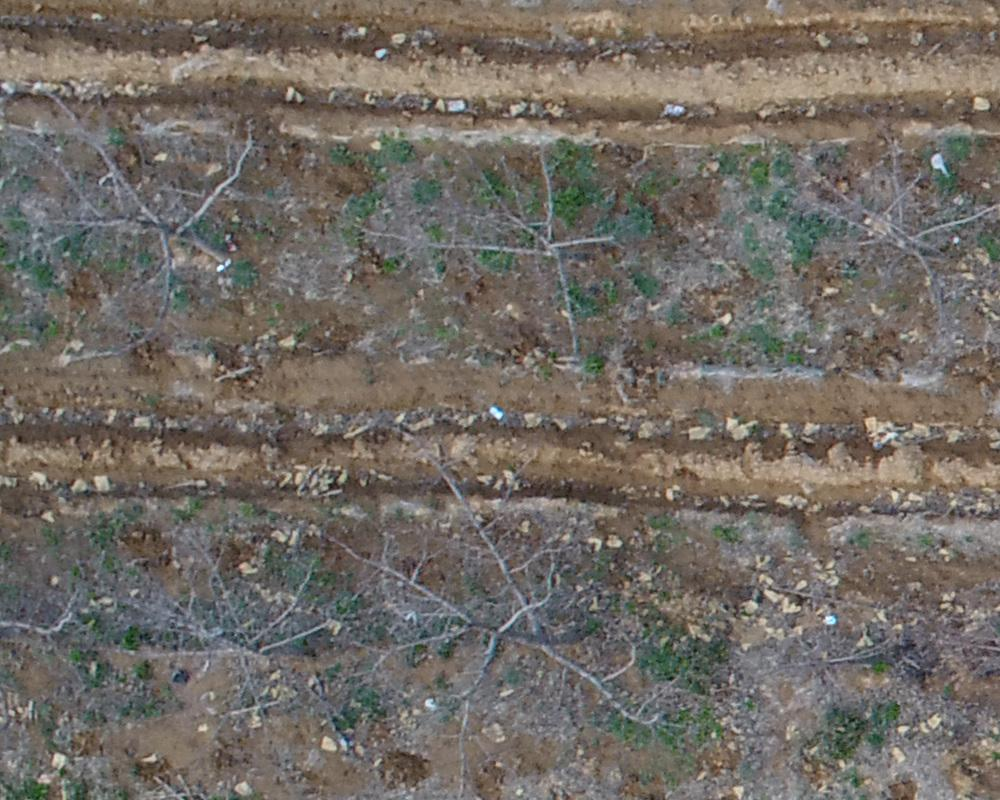apple: (337, 444, 670, 756), (78, 512, 354, 731), (14, 104, 267, 341), (382, 148, 628, 356), (796, 139, 990, 315)
